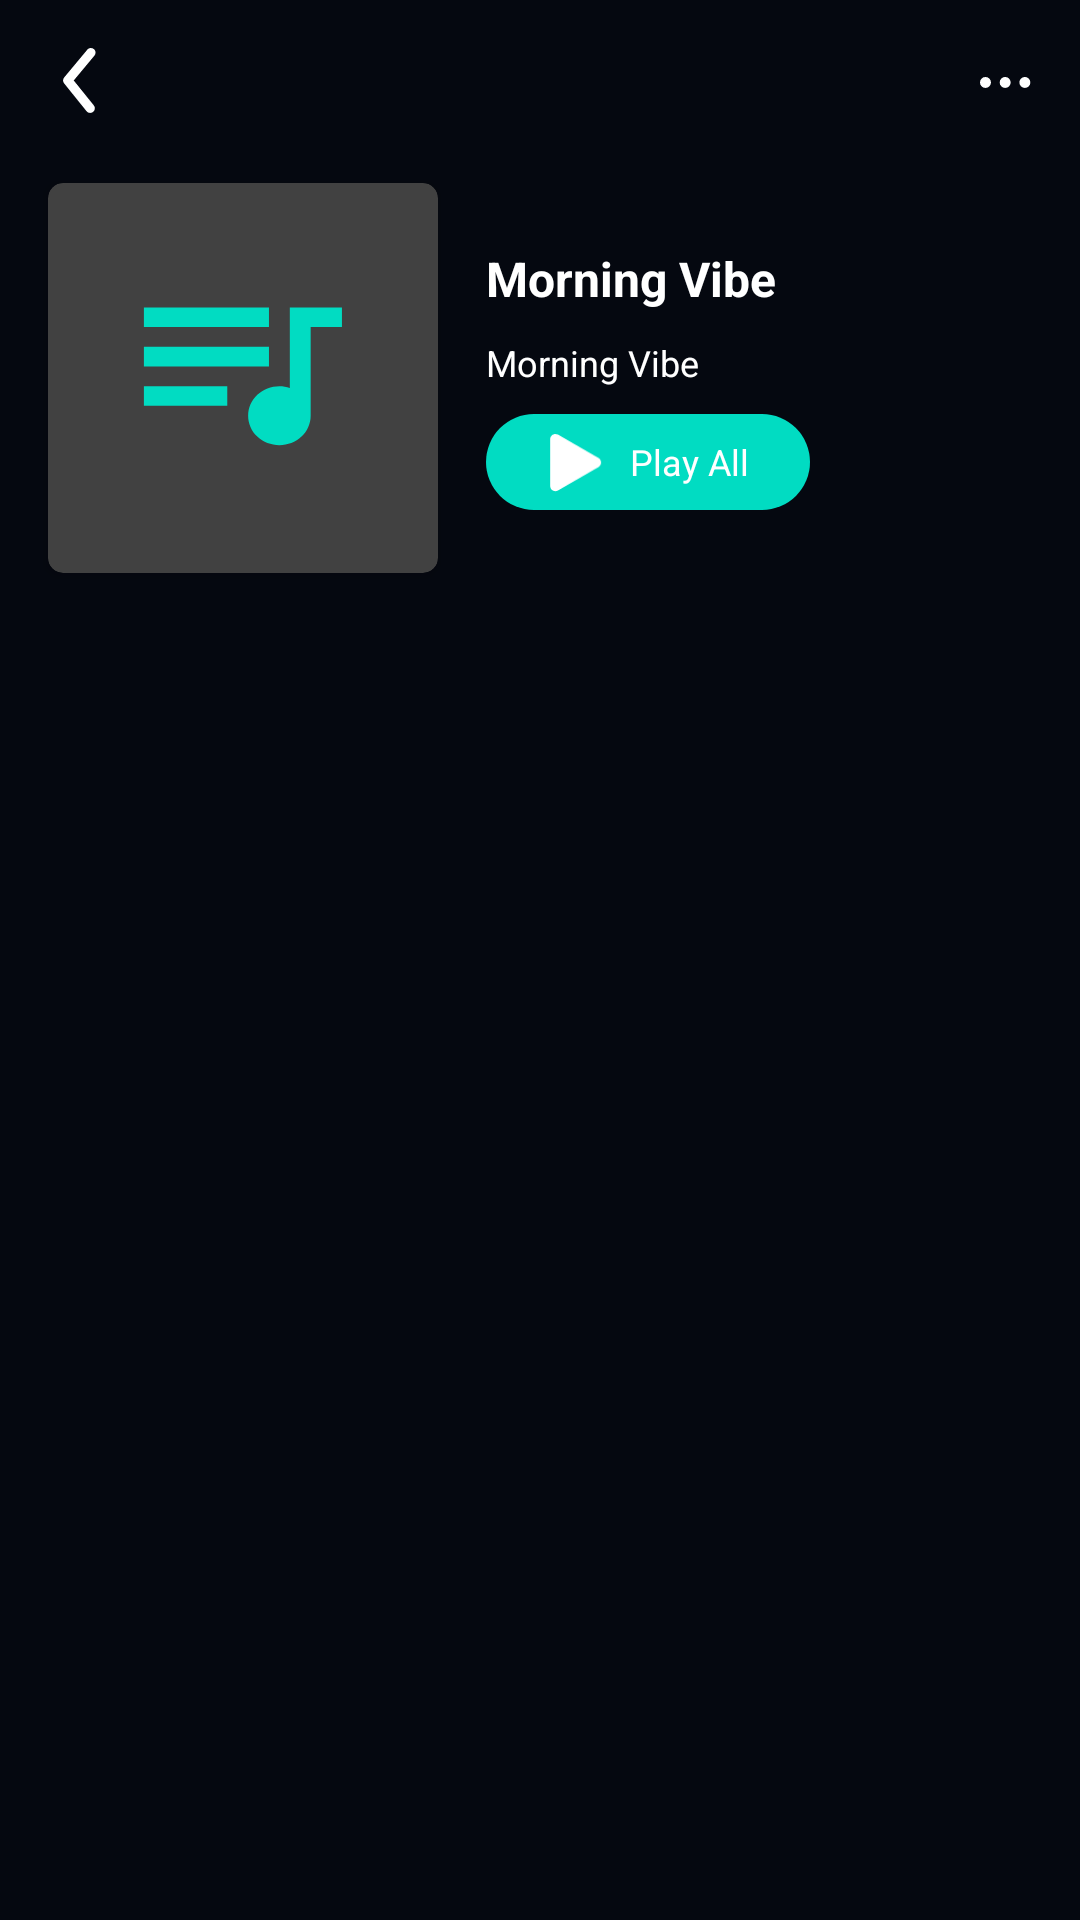

Named icons in this screenshot (1080px x 1920px) and their centers, (x=x, y=y):
back: (x=79, y=80)
dot hozi: (x=1005, y=82)
play list: (x=243, y=376)
